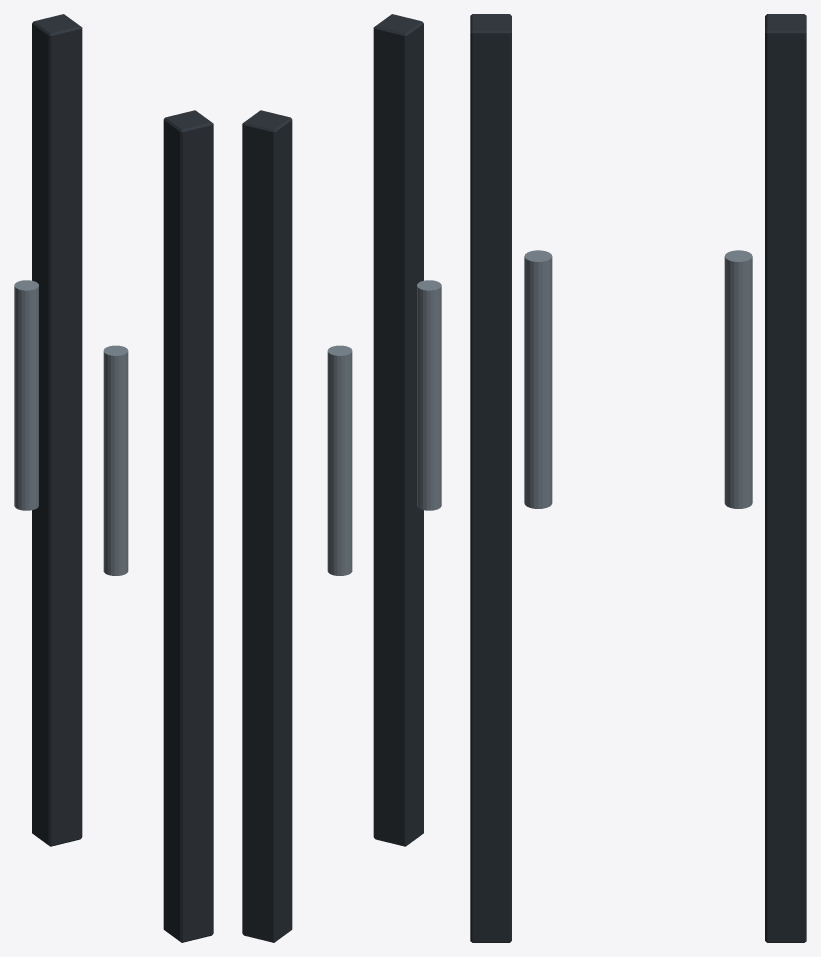
Rendered from SM_Replay_ForkliftMast.fbx.
The picture shows the model from 3 angles, left to right: view 1: azimuth 30°, elevation 25°; view 2: azimuth 150°, elevation 25°; view 3: azimuth 270°, elevation 25°; orthographic projection. The views are drawn at different scales.
Parts seen in each view (by area): view 1: SM_Replay_ForkliftMast; view 2: SM_Replay_ForkliftMast; view 3: SM_Replay_ForkliftMast.
Part boxes in pixels (x1,y1,x2,y2): SM_Replay_ForkliftMast: (14, 14, 213, 942); SM_Replay_ForkliftMast: (242, 14, 441, 942); SM_Replay_ForkliftMast: (470, 14, 806, 942).
Size of the model in its own units: 18.4 by 60.5 by 181.
